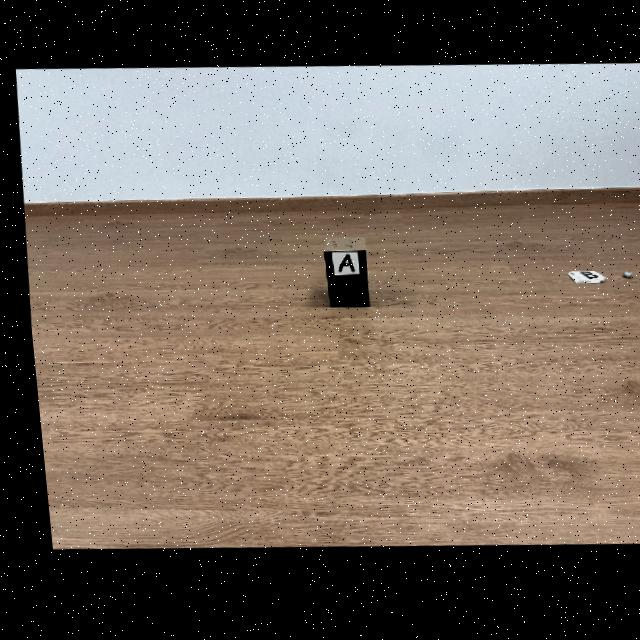A: (333, 257, 348, 273)
